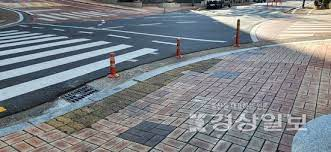guide_blocks: (51, 107, 103, 131), (148, 66, 198, 90), (104, 89, 147, 108)
